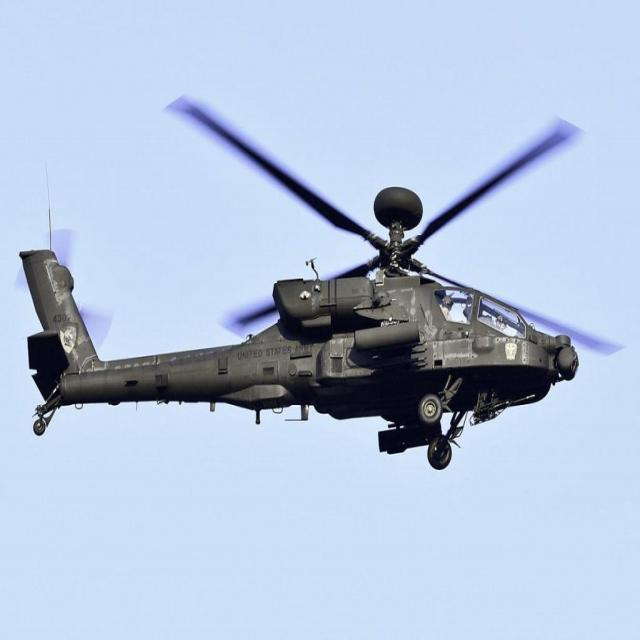MIL_HELO: (24, 89, 594, 497)
